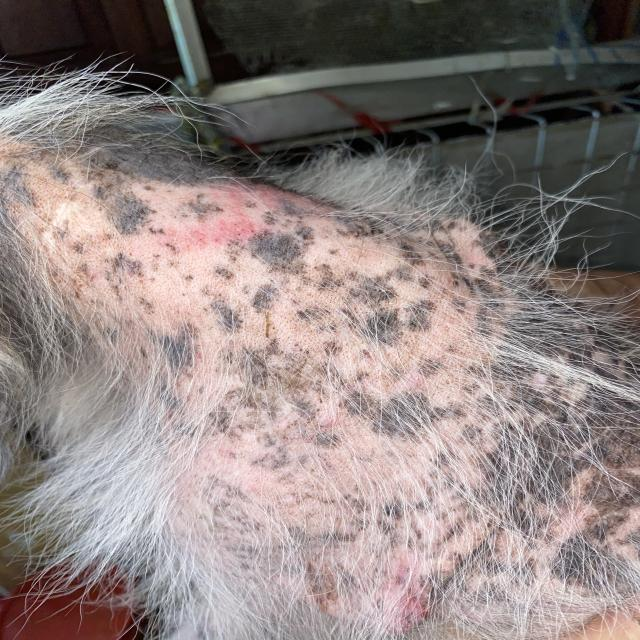demodicosis: (36, 163, 507, 571)
